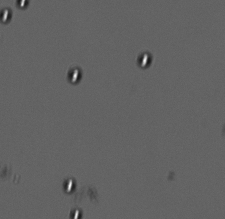Living Cell: (136, 50, 153, 69), (66, 65, 81, 85), (62, 176, 76, 194), (1, 8, 11, 25), (15, 1, 29, 9)
